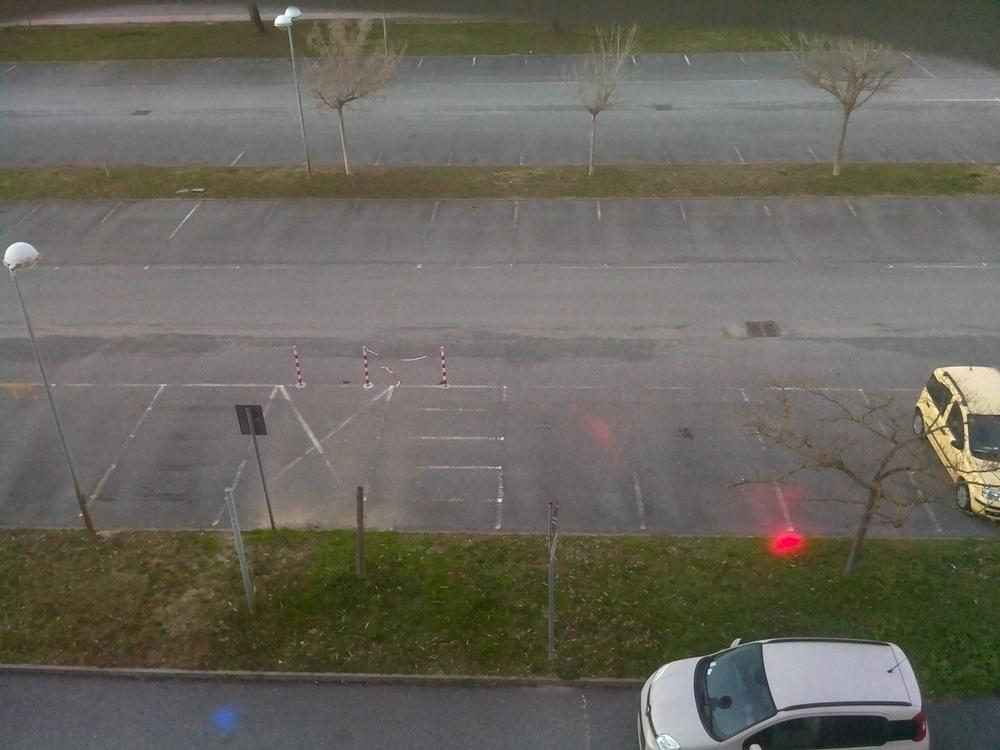empty: (643, 634, 949, 750), (920, 364, 993, 509)
occupied: (623, 388, 786, 519), (502, 394, 640, 529), (124, 390, 248, 540), (780, 393, 897, 524), (11, 387, 103, 517), (769, 193, 873, 260), (729, 120, 820, 170), (588, 117, 670, 170), (663, 120, 743, 171), (32, 202, 103, 257), (883, 204, 959, 250), (518, 117, 582, 171), (697, 203, 774, 242), (384, 128, 451, 172), (451, 130, 521, 172), (527, 204, 602, 243), (159, 143, 250, 174), (442, 204, 516, 242), (231, 143, 326, 172), (283, 206, 352, 242), (679, 41, 752, 74), (615, 203, 685, 237), (363, 205, 432, 239), (199, 207, 269, 240), (417, 48, 479, 84), (470, 46, 532, 79), (626, 48, 694, 76), (128, 208, 182, 232)
